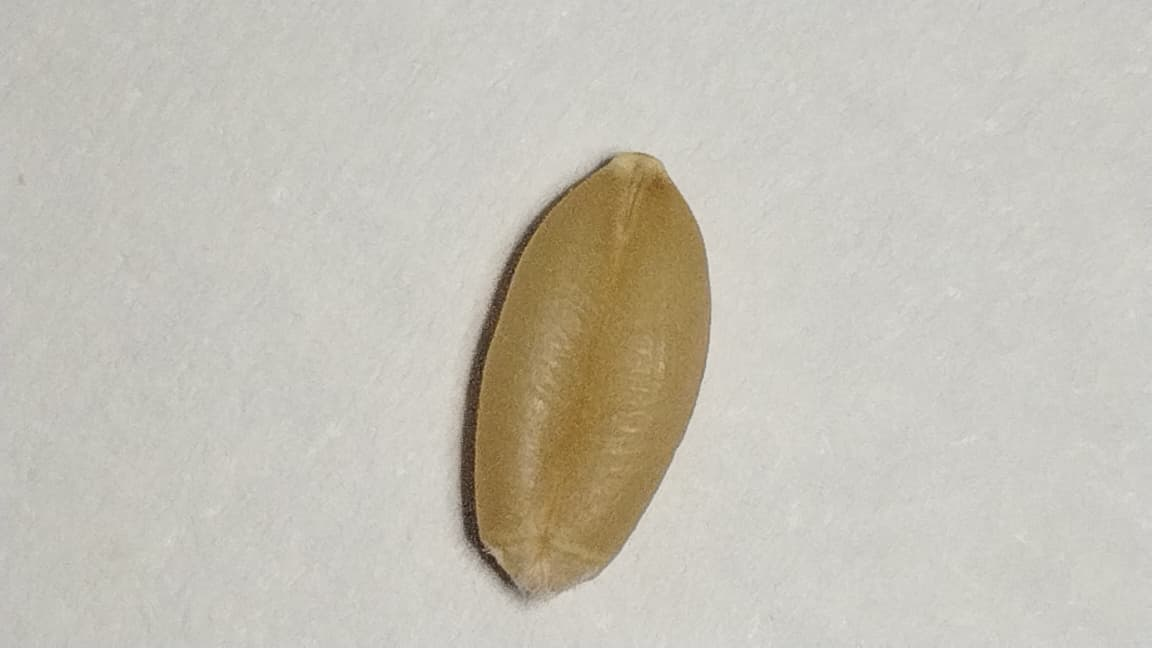healthy: (473, 153, 709, 592)
